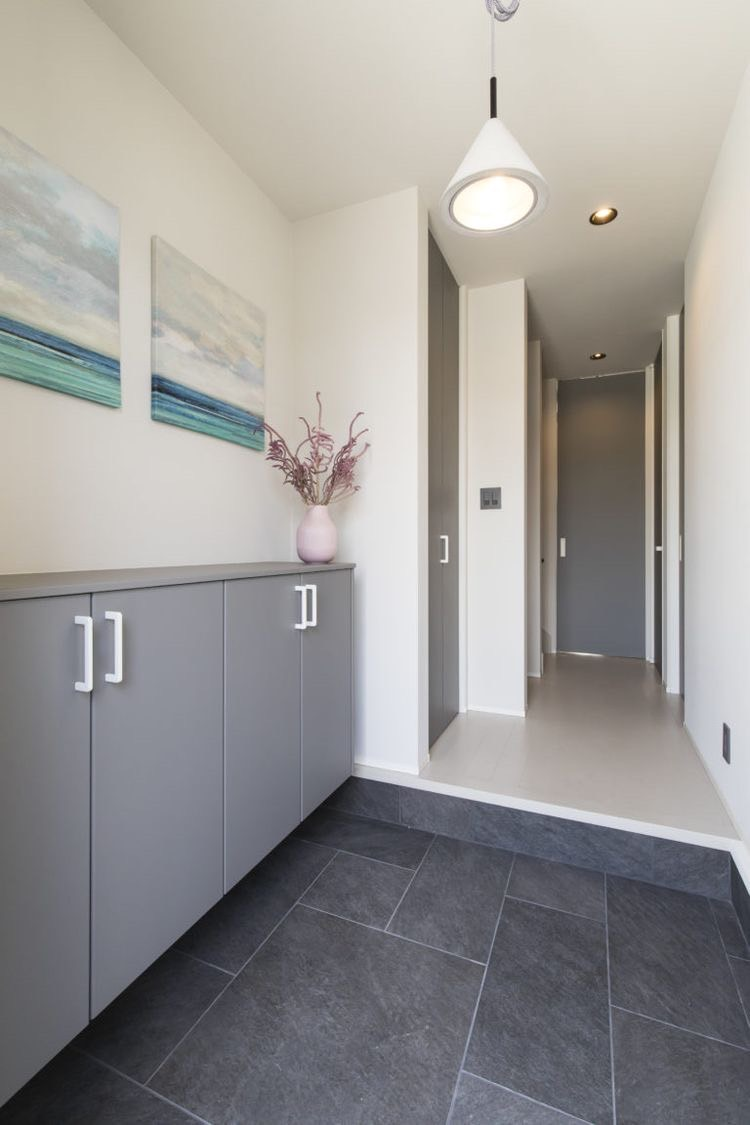floor: (0, 806, 749, 1124)
